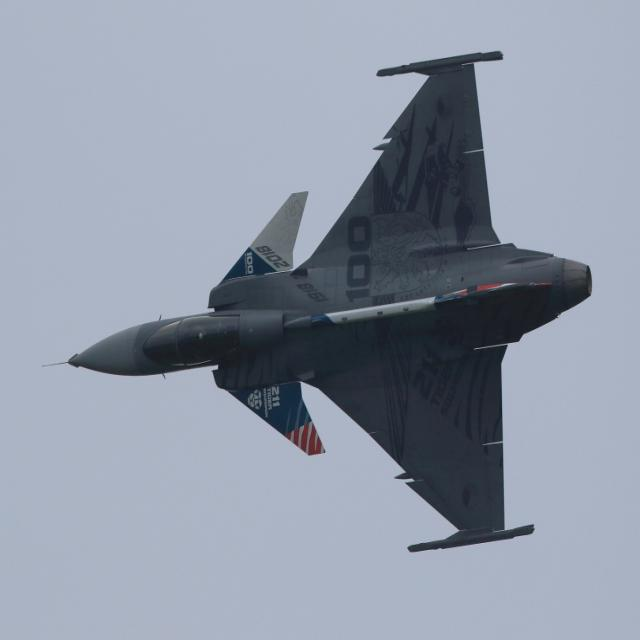MIL_Plane: (41, 51, 594, 554)
